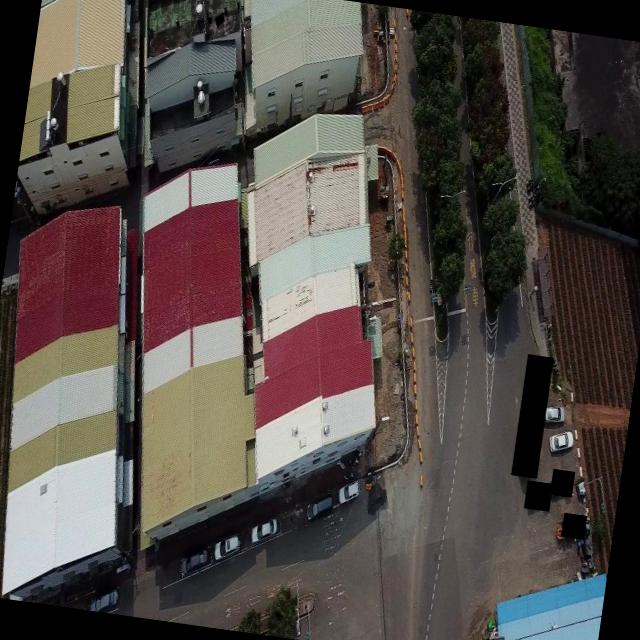car: (212, 530, 244, 566), (179, 547, 211, 582), (249, 516, 279, 550), (305, 494, 335, 526), (548, 428, 576, 457), (337, 478, 361, 506)
